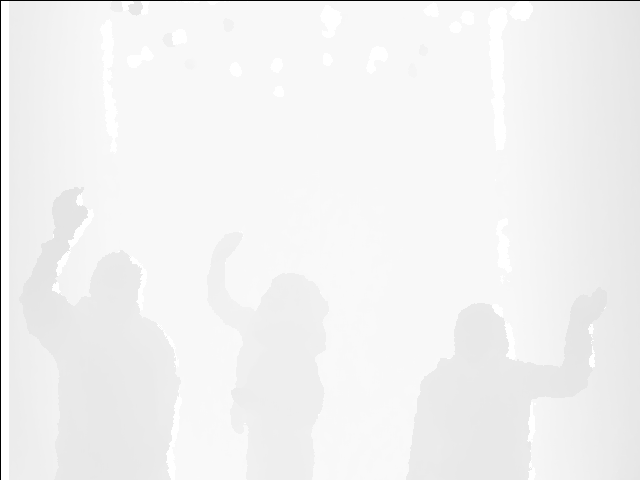hand: (49, 186, 96, 235), (566, 286, 612, 323), (214, 229, 244, 261)
